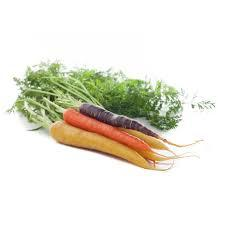Organic: (6, 37, 224, 186)
